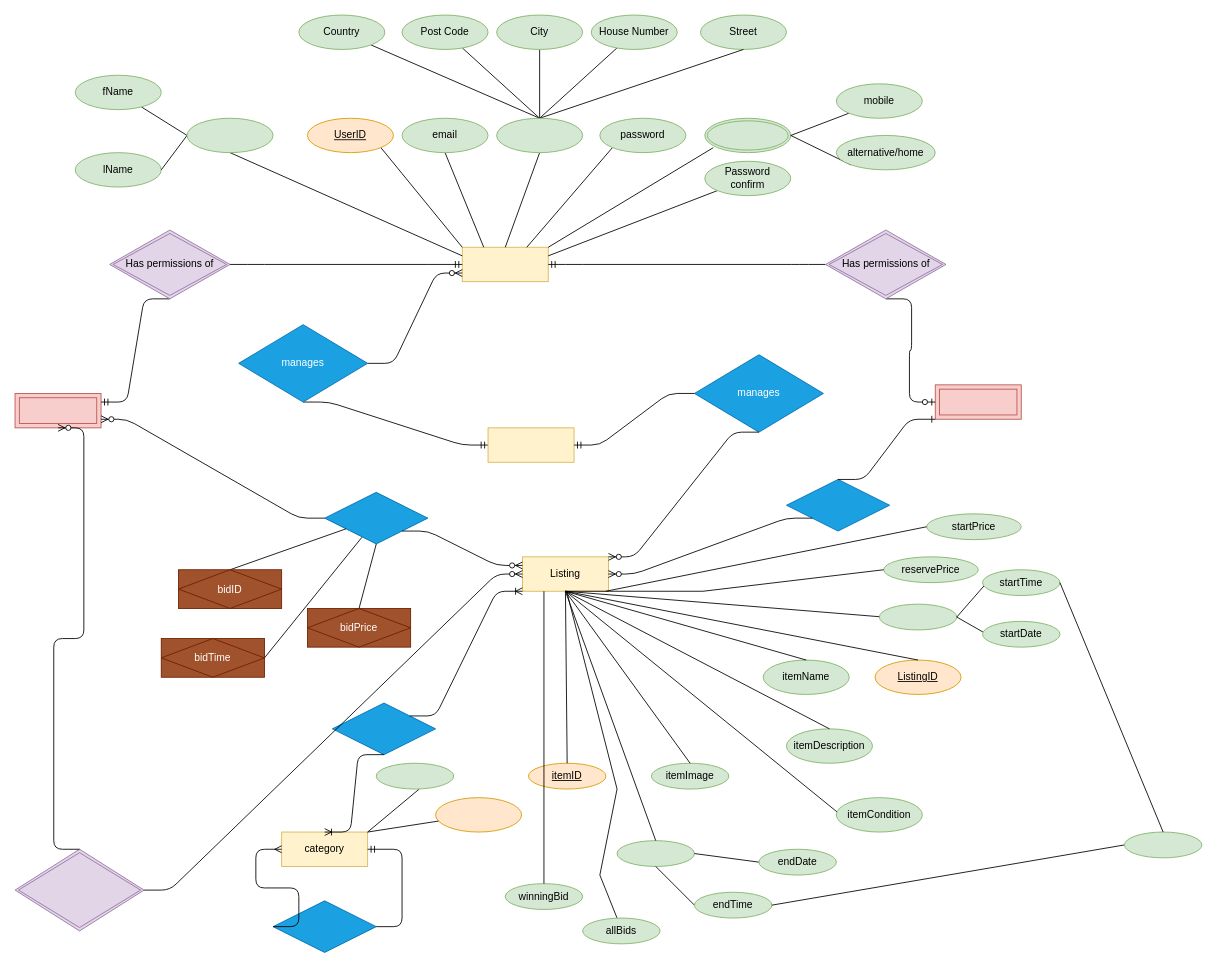
The diagram is 1217 pixels wide and 968 high, and some of its shapes have lost their labels. Each missing label, with the centre of its shape:
adds to watchlist: (79,889)
admin: (530,444)
Belongs to: (384,728)
Bids/buys: (376,517)
Buyer: (57,410)
categoryID: (478,814)
categoryName: (414,775)
end: (655,853)
Has: (324,926)
homeAddress: (539,135)
Lists: (838,505)
name: (229,135)
phoneNumber: (747,135)
Seller: (977,401)
start: (917,616)
timeRemaining: (1163,844)
User: (504,264)
